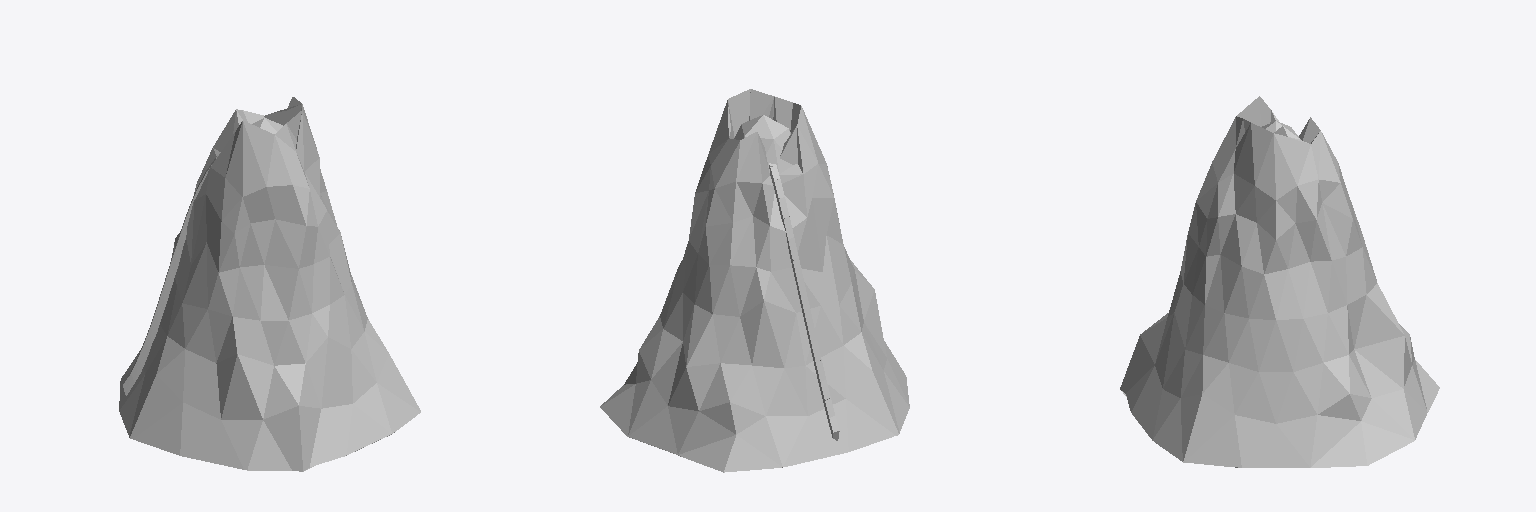
Rendered from volcano.obj.
3 views of the same model, side by side, from view 1: azimuth 30°, elevation 25°; view 2: azimuth 150°, elevation 25°; view 3: azimuth 270°, elevation 25° (orthographic).
Visible parts, largest first — view 1: Volcano_Icosphere.002, Cube.001_Cube.003; view 2: Volcano_Icosphere.002, Cube.001_Cube.003; view 3: Volcano_Icosphere.002.
Boxes of the visible parts, <box> form: Volcano_Icosphere.002: <box>119,97,420,471</box>; Cube.001_Cube.003: <box>123,118,276,395</box>; Volcano_Icosphere.002: <box>600,89,909,472</box>; Cube.001_Cube.003: <box>743,115,839,440</box>; Volcano_Icosphere.002: <box>1120,96,1439,467</box>.
Bounding box in the file's own units: 1.68 × 1.86 × 1.81.